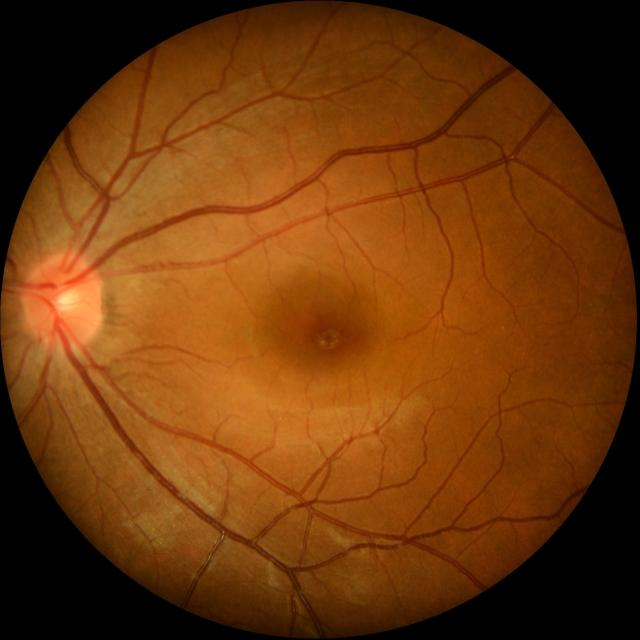OC: (52, 287, 81, 316)
OD: (20, 252, 104, 351)
